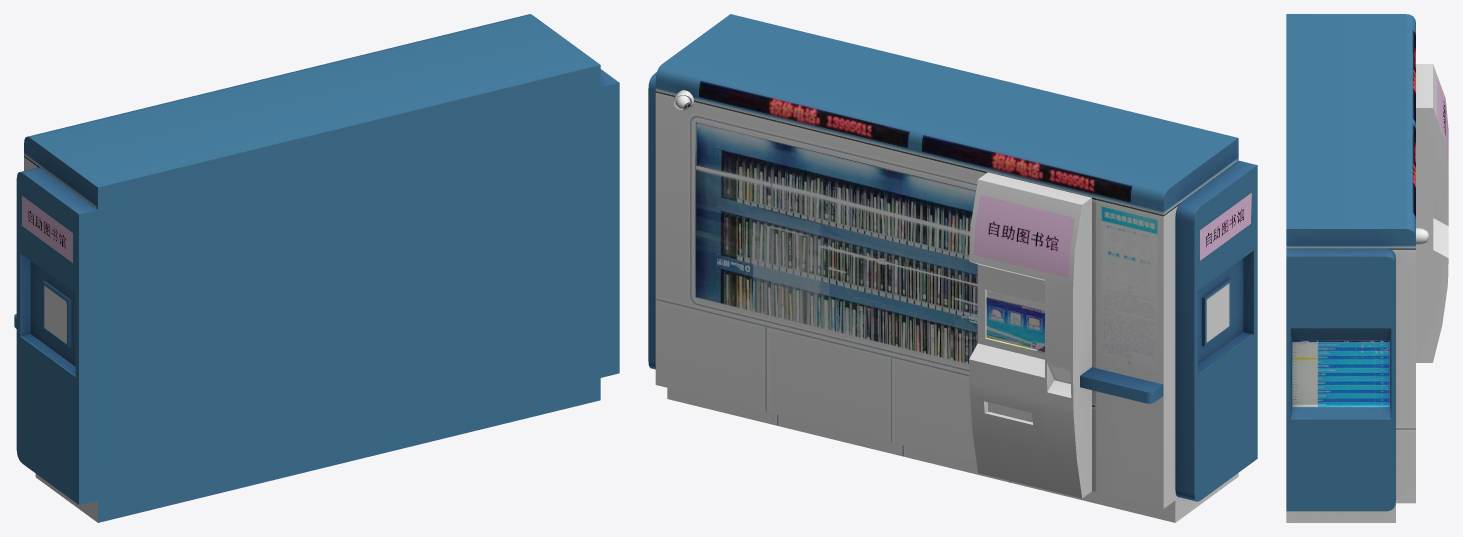
3 views of the same model, side by side, from view 1: azimuth 30°, elevation 25°; view 2: azimuth 150°, elevation 25°; view 3: azimuth 270°, elevation 25° (orthographic). The views are drawn at different scales.
Parts seen in each view (by area): view 1: 自助图书馆; view 2: 自助图书馆; view 3: 自助图书馆.
Part boxes in pixels (x1,y1,x2,y2): 自助图书馆: [14, 14, 619, 522]; 自助图书馆: [648, 14, 1257, 522]; 自助图书馆: [1286, 14, 1448, 522].
Bounding box in the file's own units: 4.3 × 2.55 × 1.28.
Materials: 1 (1 with a texture image).
